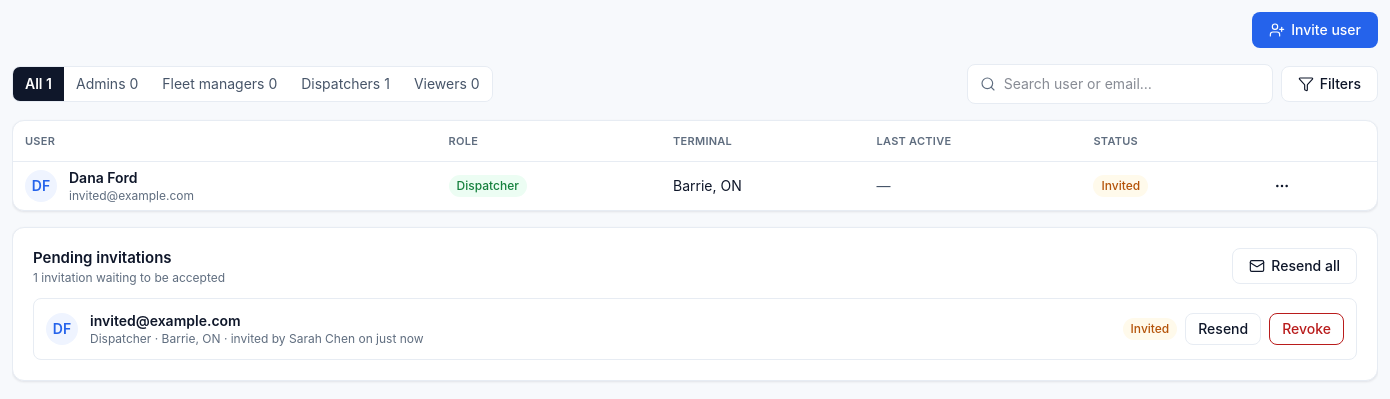
Test case: UsersPage — W-18 › shows the Pending invitations card and resends from it
Expected: the heading "Pending invitations" is shown, [33, 248, 172, 266]
Note: Exact match excludes the card header's "Resend all".
Step 1. Click the button "Resend" → x=1223, y=328, box [1185, 312, 1261, 344]
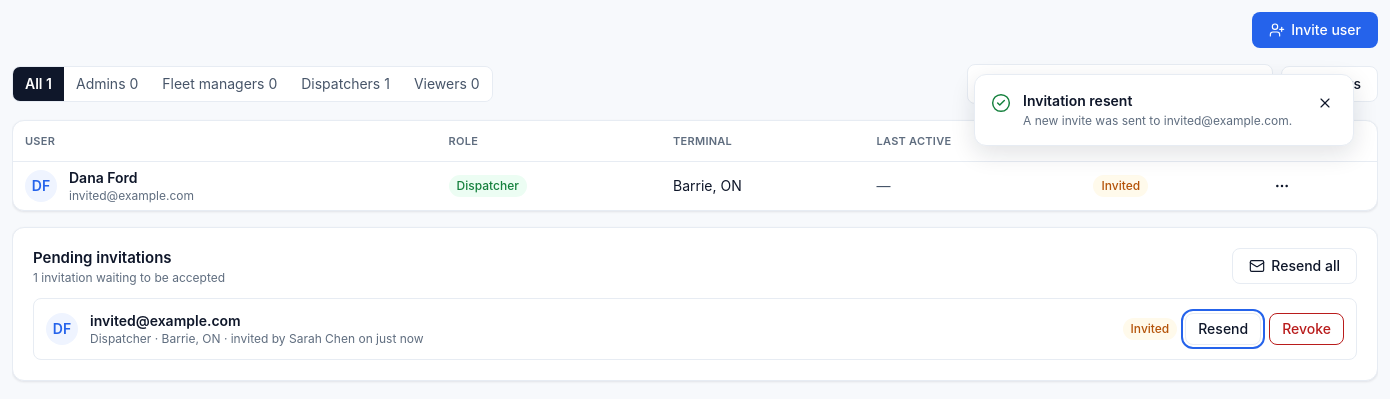
Result: the text "Invitation resent" is shown at [1023, 92, 1132, 109]
